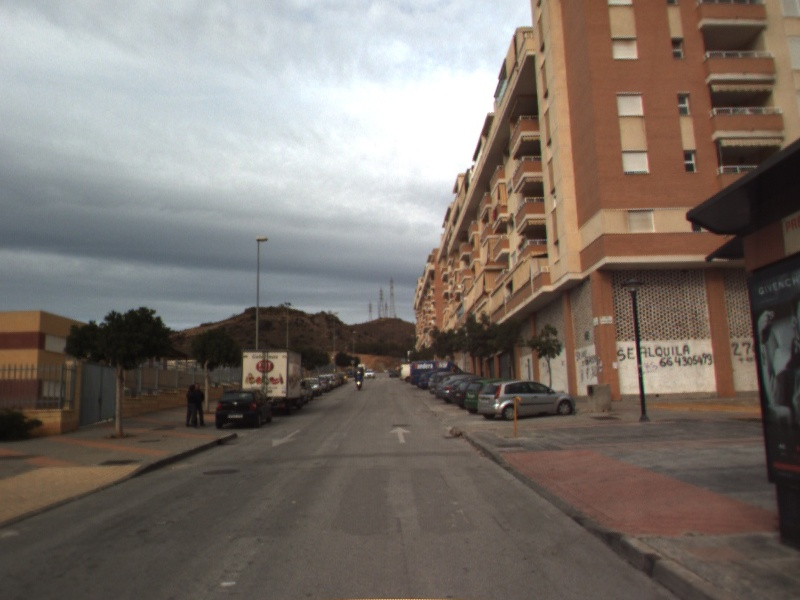STRAIGHT: (387, 425, 413, 445)
